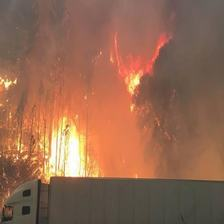fire: (5, 87, 110, 183), (112, 26, 184, 110)
